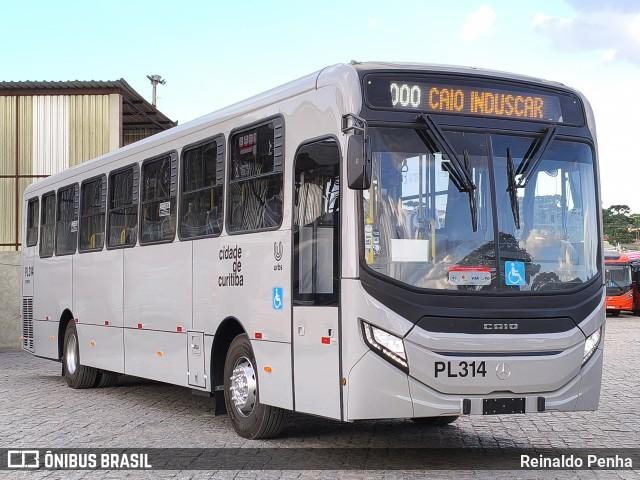CAIO INDUSCAR: (423, 81, 553, 124)
